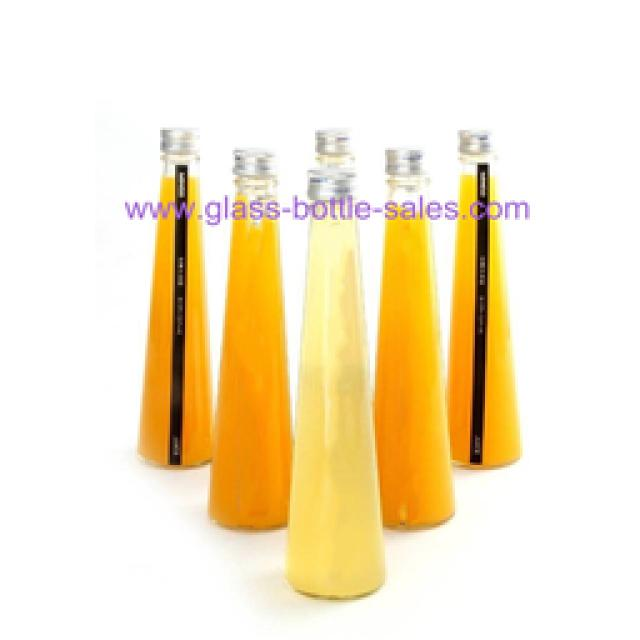glass_beverage_bottles: (450, 126, 522, 462), (145, 128, 212, 462)
